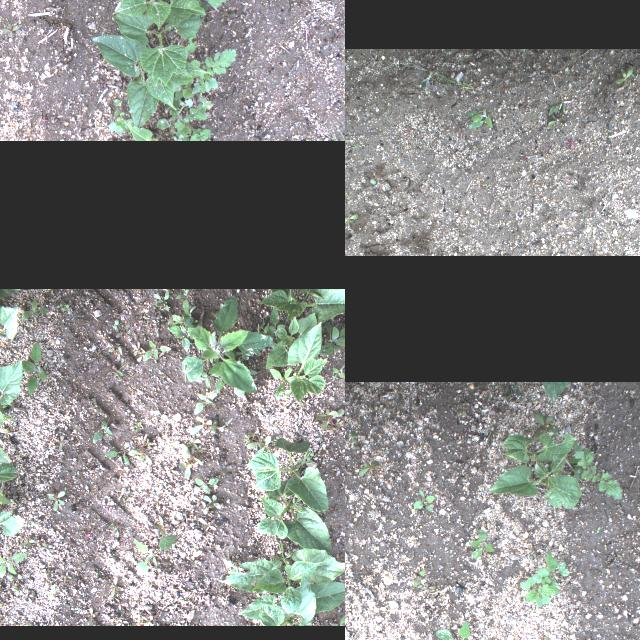crop: (91, 11, 209, 133), (216, 540, 345, 625), (246, 438, 328, 512), (254, 482, 332, 552), (488, 454, 580, 508), (284, 320, 326, 398), (258, 288, 345, 323), (107, 0, 206, 30), (266, 313, 316, 369), (501, 433, 575, 463), (0, 360, 22, 445), (0, 429, 17, 508), (0, 510, 23, 551), (0, 305, 19, 343), (541, 382, 571, 402)
weed: (165, 290, 279, 396), (170, 48, 236, 104), (569, 441, 621, 499), (132, 518, 180, 574), (156, 94, 210, 140), (403, 62, 473, 88), (102, 432, 156, 463), (18, 342, 48, 396), (531, 550, 569, 590), (519, 576, 559, 608), (132, 336, 174, 366), (320, 306, 345, 355), (178, 441, 204, 482), (433, 621, 488, 640), (192, 380, 222, 414), (529, 411, 559, 442), (312, 404, 342, 434), (188, 416, 230, 436), (269, 368, 293, 400), (470, 528, 494, 560), (0, 553, 28, 580), (108, 110, 134, 138), (461, 108, 494, 130), (242, 429, 272, 453), (88, 420, 112, 446), (568, 456, 590, 484), (193, 492, 220, 514), (612, 67, 638, 89), (105, 342, 128, 366), (22, 298, 48, 318), (51, 292, 74, 314), (548, 98, 566, 126), (150, 290, 172, 312), (127, 124, 157, 140), (45, 489, 65, 511), (413, 489, 433, 511), (356, 459, 380, 476), (130, 612, 158, 626), (222, 558, 246, 574), (192, 478, 218, 492), (106, 318, 125, 337), (327, 365, 345, 385), (195, 518, 217, 534), (503, 384, 523, 401), (0, 23, 18, 39), (107, 578, 121, 598), (0, 290, 21, 303), (83, 602, 95, 624), (42, 584, 58, 600), (106, 520, 120, 536), (54, 434, 70, 448), (412, 570, 424, 588), (118, 487, 128, 508), (345, 212, 359, 226), (108, 368, 122, 382), (163, 462, 177, 476), (202, 594, 218, 606), (336, 604, 345, 625), (419, 583, 436, 593), (120, 468, 132, 482), (38, 543, 52, 555), (456, 402, 468, 416), (152, 496, 162, 512), (4, 574, 20, 584), (4, 428, 14, 444), (349, 430, 357, 450), (364, 467, 378, 478), (22, 538, 34, 550), (6, 586, 20, 596), (81, 532, 92, 544), (115, 615, 127, 625), (112, 598, 124, 608), (70, 604, 82, 614), (23, 590, 32, 602), (130, 422, 142, 430), (336, 483, 345, 493), (368, 178, 376, 186), (62, 538, 70, 546), (524, 426, 532, 434), (594, 526, 600, 534), (537, 636, 548, 640), (341, 509, 345, 517), (345, 187, 348, 196)
